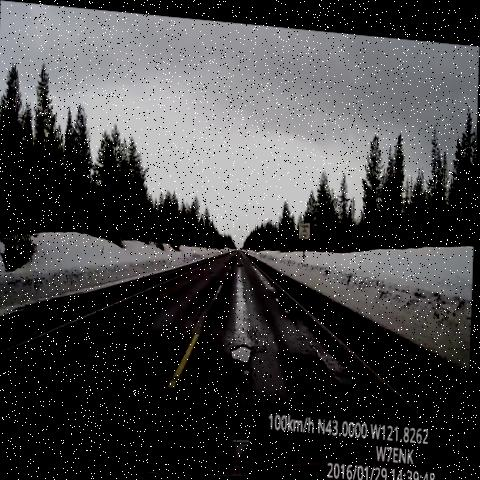pothole: (221, 322, 263, 375), (271, 281, 295, 318), (234, 251, 250, 267)
